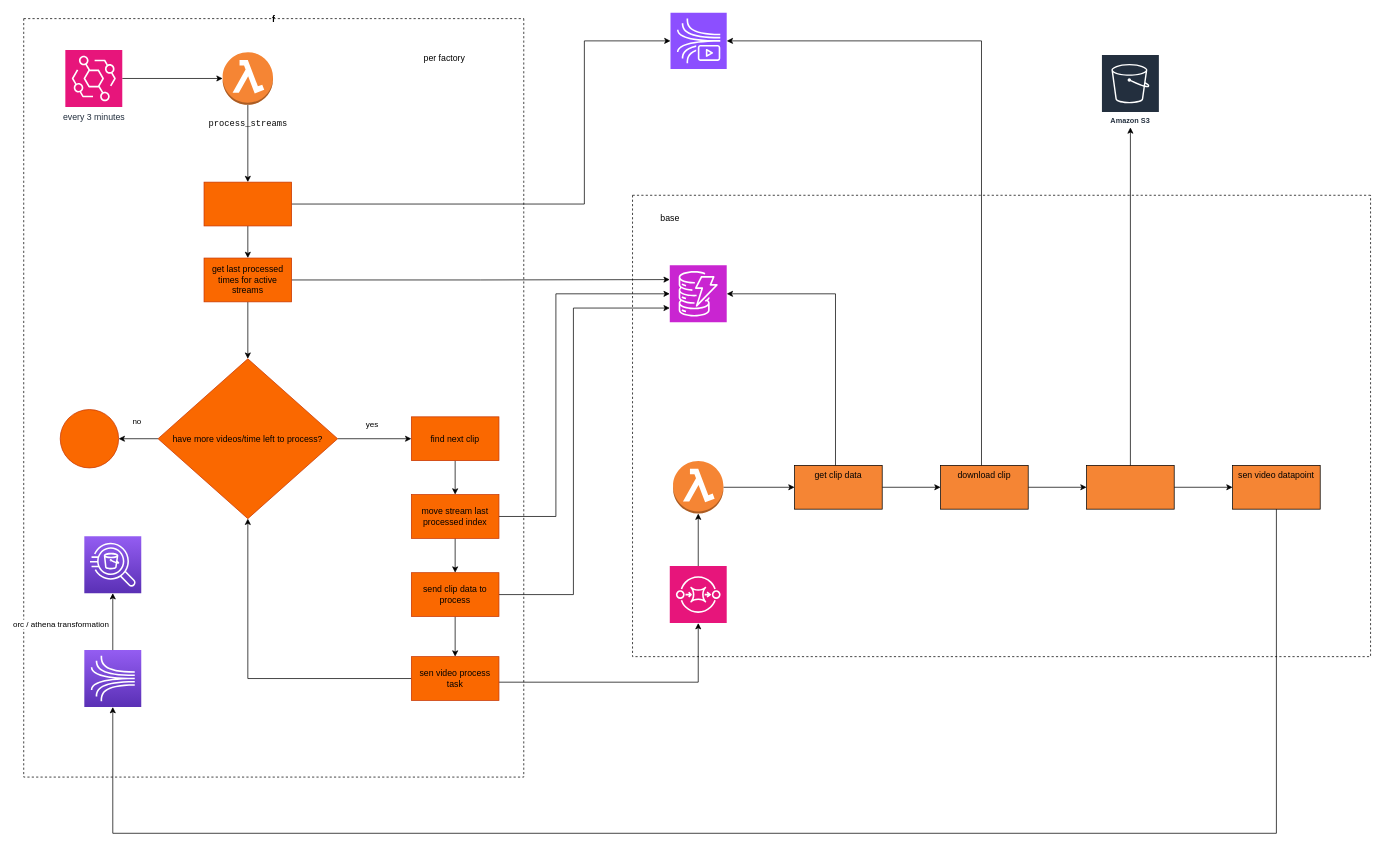
Some shapes in this 1383 by 852 pixel diagram are drawn without their labels. The centre of each missing label's shape, as x and y in pixels:
"end" belongs at point (89, 438).
"get active factory streams" belongs at point (247, 203).
"get_clip" belongs at point (697, 487).
"kinesis video" belongs at point (698, 40).
"upload video to s3" belongs at point (1130, 487).
